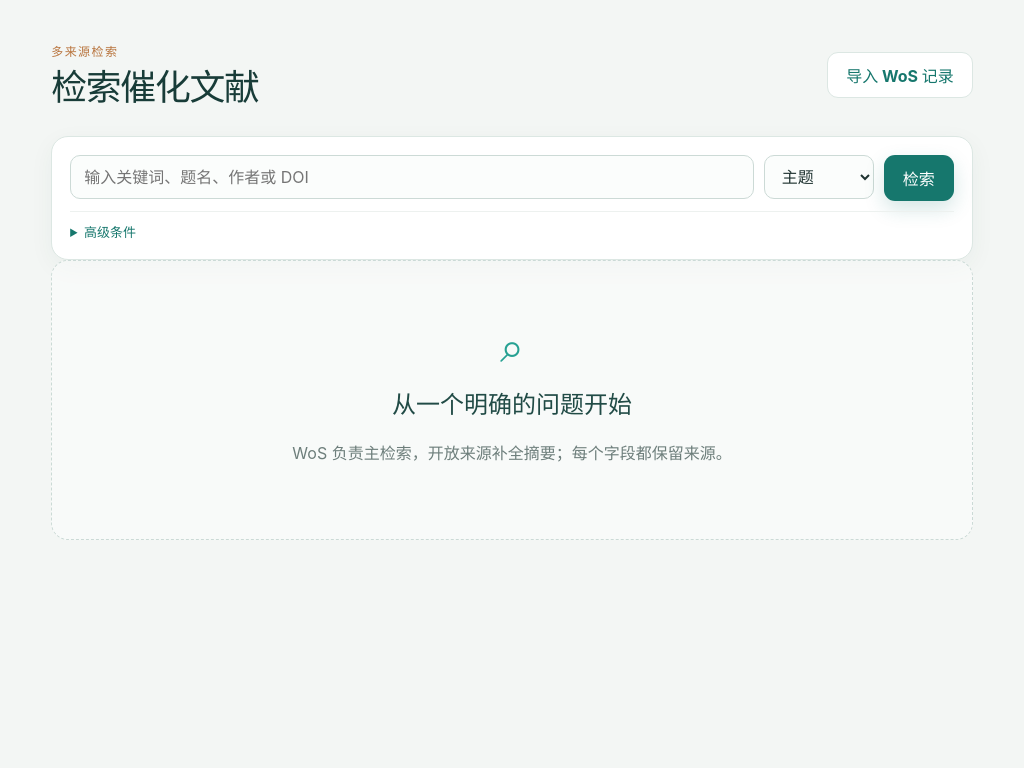
Scenario: SearchPage › submits an explicit query and opens the accessible detail drawer
Type "copper" into the field with placeholder "输入关键词、题名、作者或 DOI".
click(412, 176); type("copper")  # box [70, 154, 754, 198]
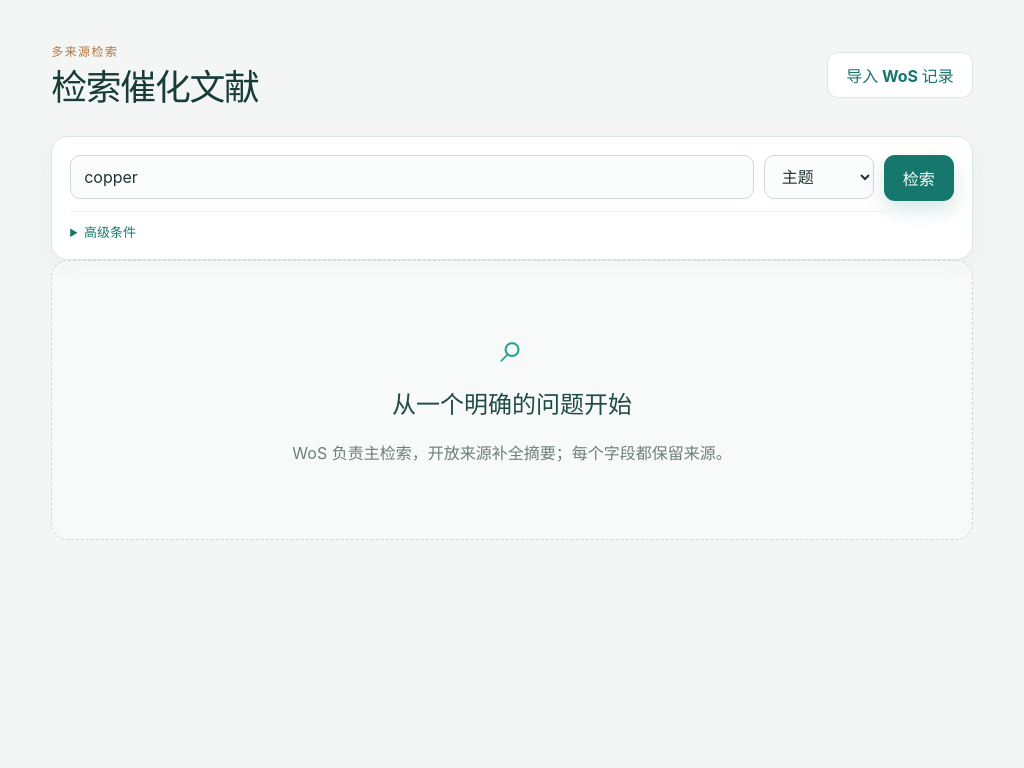
Click the button "检索".
click(919, 178)  # box [884, 154, 954, 200]
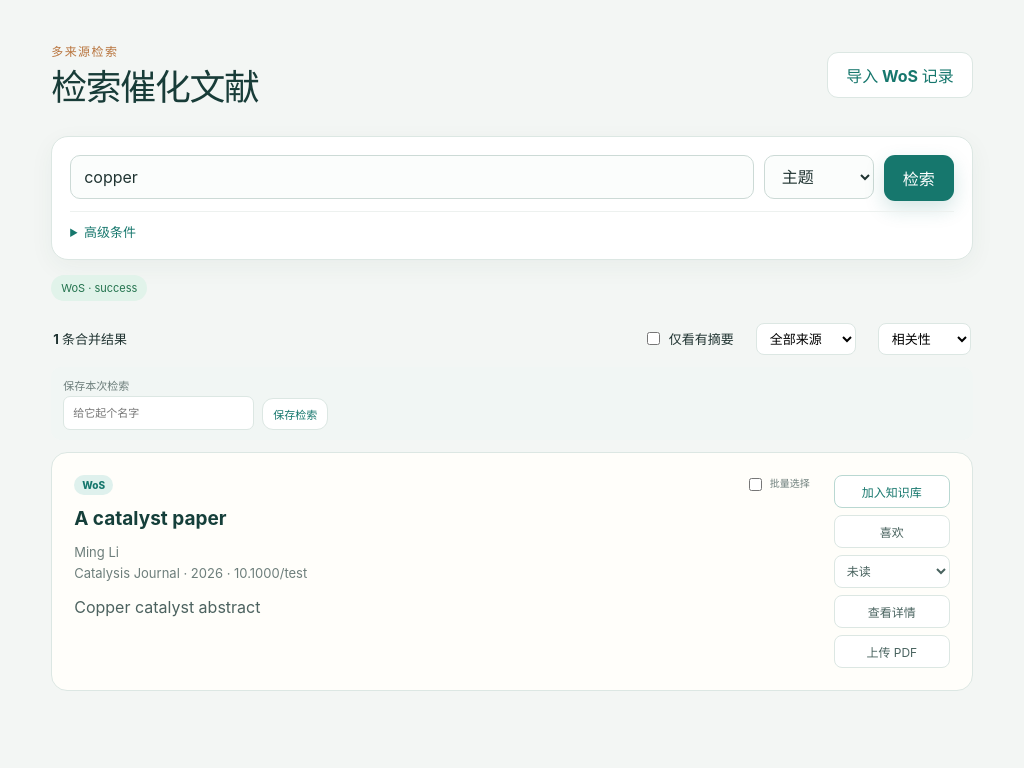
Expected: the button "A catalyst paper" is shown, [74, 506, 226, 532]
Expected: the text "WoS · success" is shown, [51, 274, 147, 300]
Click the button "查看详情".
click(892, 611)  # box [834, 594, 950, 628]
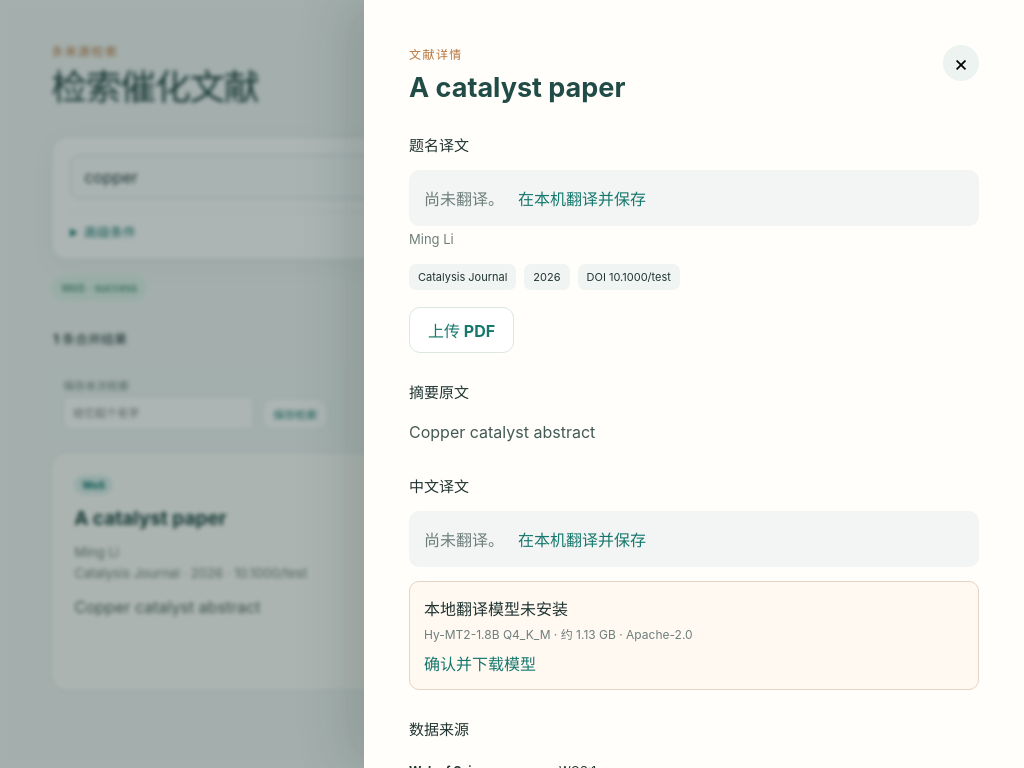
Expected: the dialog "A catalyst paper" is shown
